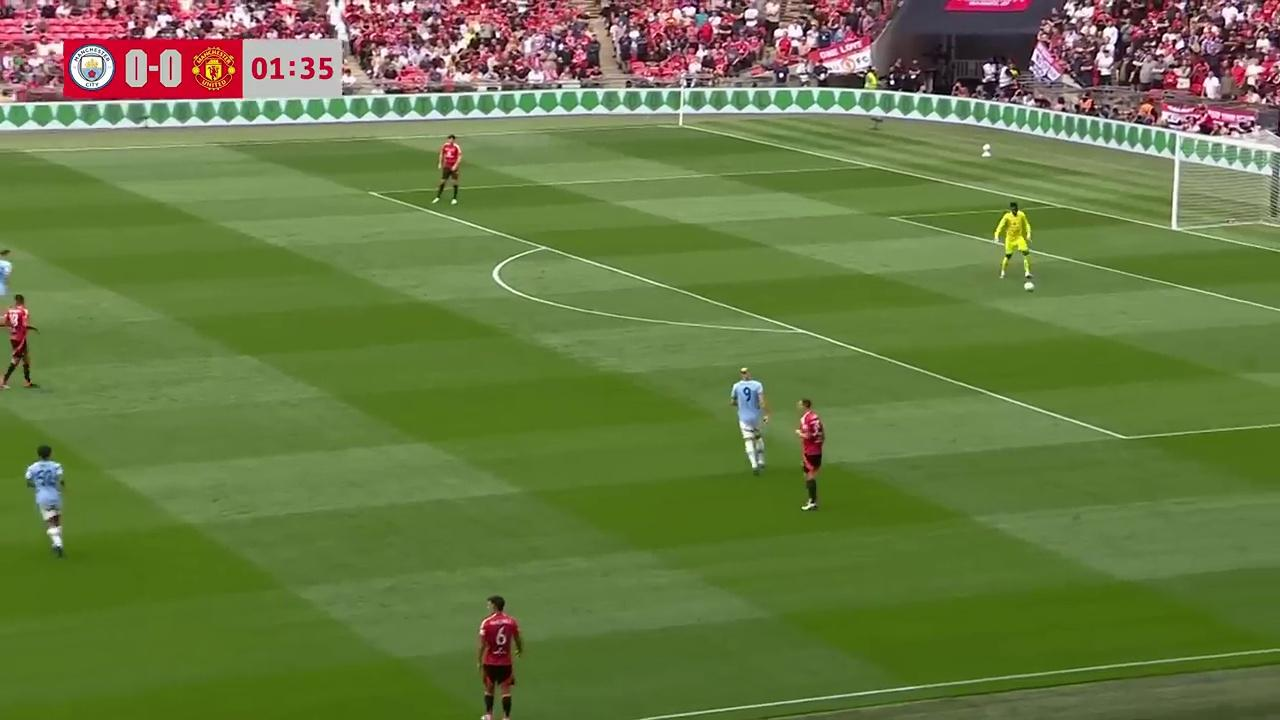ball: (1020, 279, 1039, 293)
player: (477, 595, 522, 720), (24, 444, 66, 557), (729, 366, 768, 473), (0, 294, 39, 388), (994, 202, 1035, 288), (795, 398, 825, 511), (433, 135, 462, 204), (0, 249, 13, 308)
